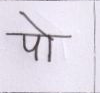e_matra: (20, 11, 49, 34)
